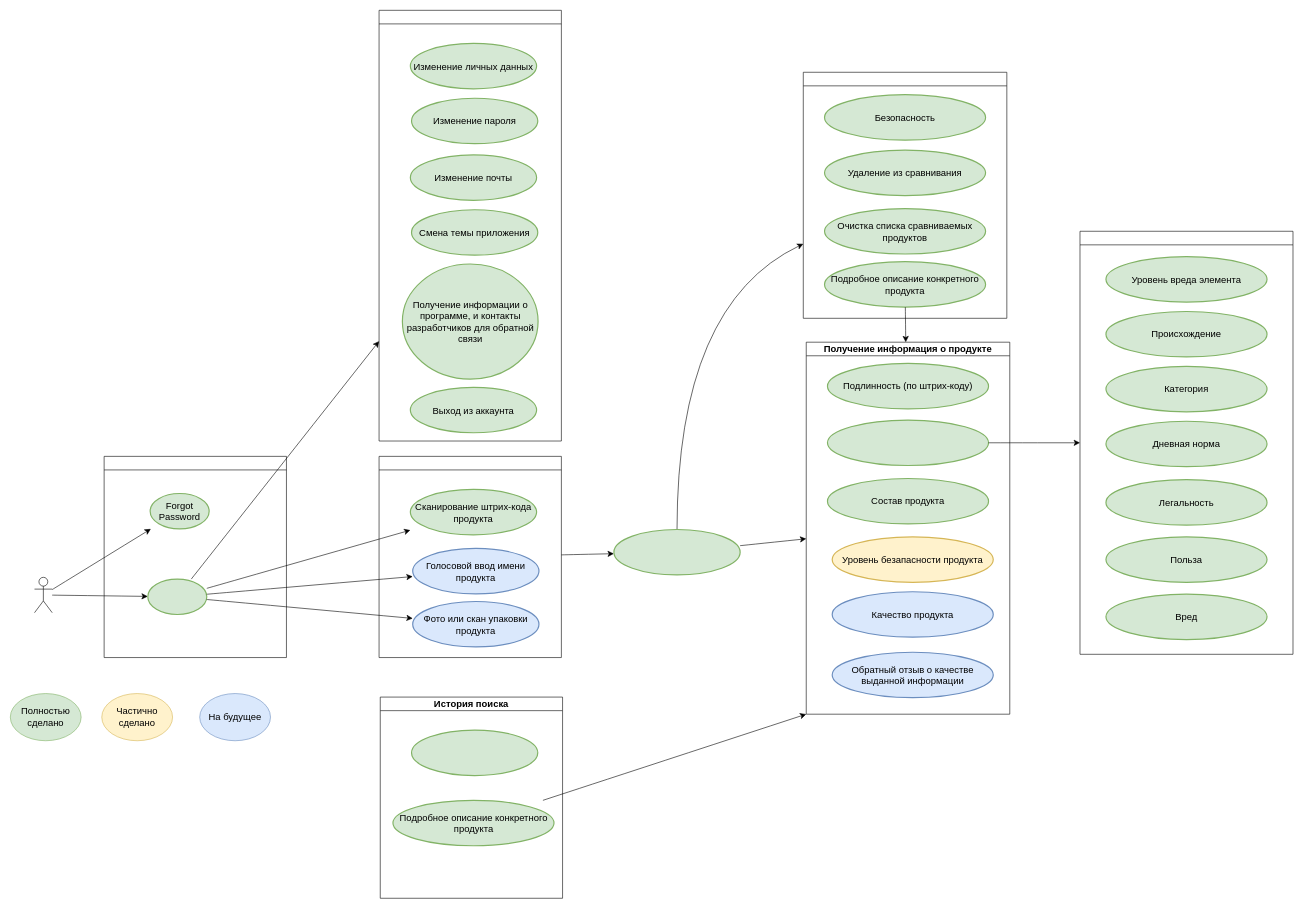
Image size: 1303x909. Some labels were removed from this diagram. Each missing label, with the box of its shape:
Login: (147, 578, 207, 615)
User: (34, 577, 52, 613)
Авторизация: (104, 456, 286, 658)
Е-добавки: (827, 419, 989, 466)
Краткое описание о продукте: (411, 729, 538, 776)
Настройки: (378, 10, 561, 441)
Нахождение товара: (613, 529, 740, 575)
Описание Е-добавок: (1079, 231, 1293, 654)
Поиск продукта: (378, 456, 561, 658)
Сравнивание продуктов: (803, 72, 1007, 318)
